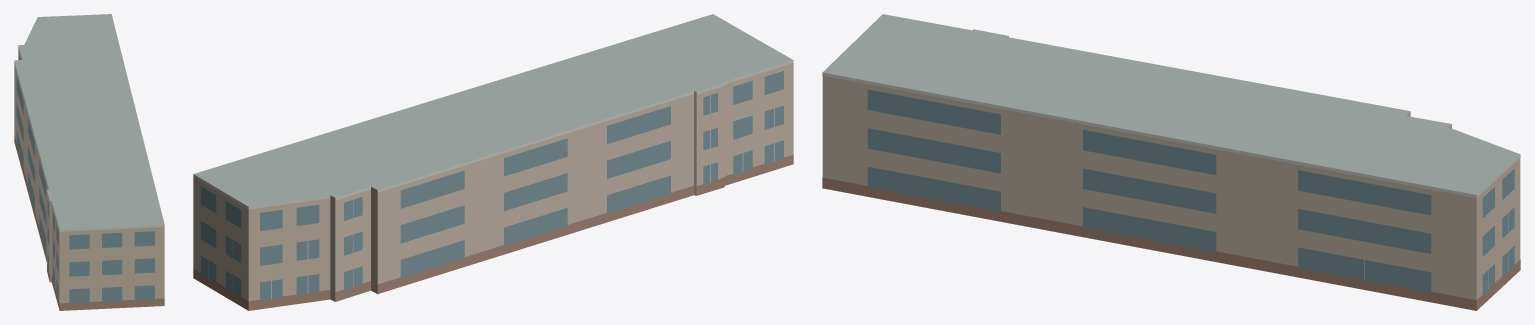
Rendered from survey-upis-32540317.glb.
3 views of the same model, side by side, from view 1: azimuth 30°, elevation 25°; view 2: azimuth 150°, elevation 25°; view 3: azimuth 270°, elevation 25° (orthographic). The views are drawn at different scales.
Visible parts, largest first — view 1: survey-upis-32540317.tmp; view 2: survey-upis-32540317.tmp; view 3: survey-upis-32540317.tmp.
Part boxes in pixels (box(x1,y1,x2,y2)): survey-upis-32540317.tmp: box(14, 14, 164, 310); survey-upis-32540317.tmp: box(193, 14, 793, 310); survey-upis-32540317.tmp: box(822, 14, 1520, 310).
Size of the model in its own units: 30.66 by 9.15 by 49.95.
